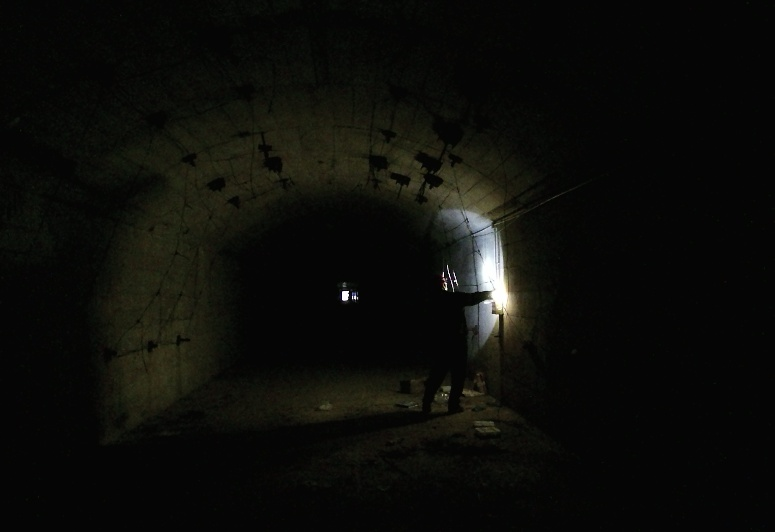person: (417, 275, 494, 415)
